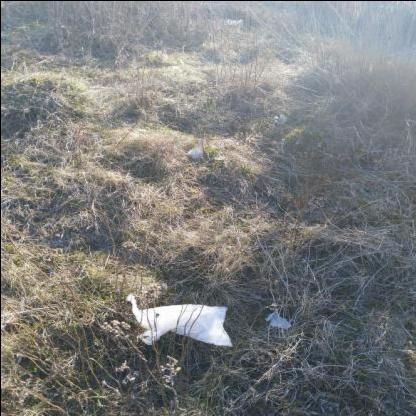Plastic bag - wrapper: (126, 293, 232, 346), (264, 308, 290, 328), (187, 139, 203, 159), (271, 113, 288, 122)
Unlabeled litter: (221, 17, 241, 23)
